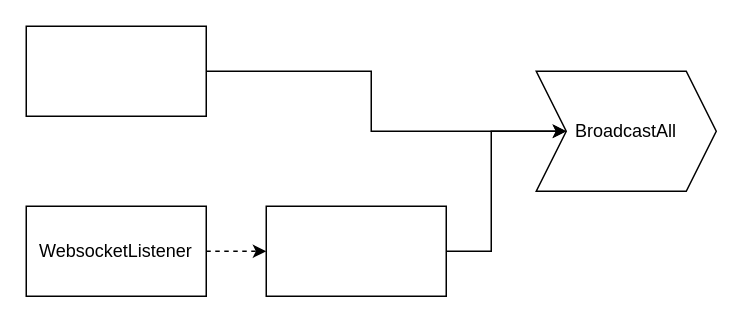
Image size: 743x323. Some labels were removed from this diagram. The centre of each missing label's shape, as x and y in pixels:
"StdioPeer" goes at pixel 115 70.
"WebsocketPeer" goes at pixel 355 250.
